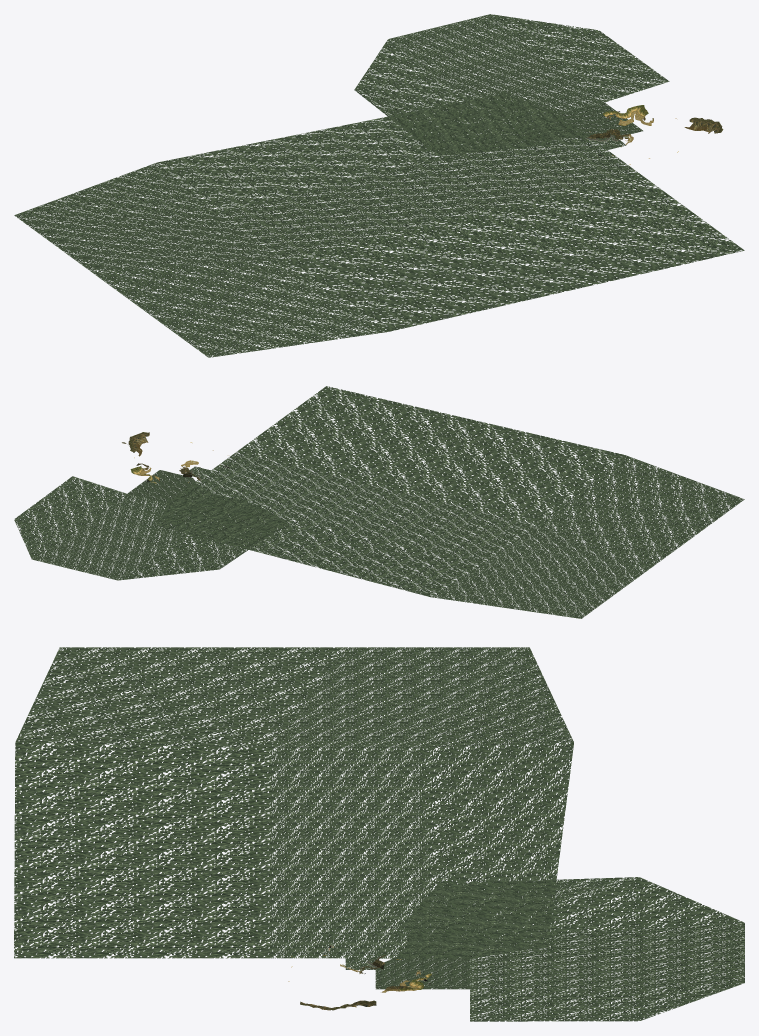
Rendered from track-B1_C1_V2_env.glb.
3 views of the same model, one above another, from view 1: azimuth 30°, elevation 25°; view 2: azimuth 150°, elevation 25°; view 3: azimuth 270°, elevation 25° (orthographic). The views are drawn at different scales.
Parts seen in each view (by area): view 1: B1_C1_V2_env; view 2: B1_C1_V2_env; view 3: B1_C1_V2_env.
Part boxes in pixels (x1,y1,x2,y2): B1_C1_V2_env: (14, 14, 744, 357); B1_C1_V2_env: (14, 386, 744, 618); B1_C1_V2_env: (14, 647, 744, 1021).
Bounding box in the file's own units: 9000 × 205 × 7480.
Materials: 30 (30 with a texture image).
